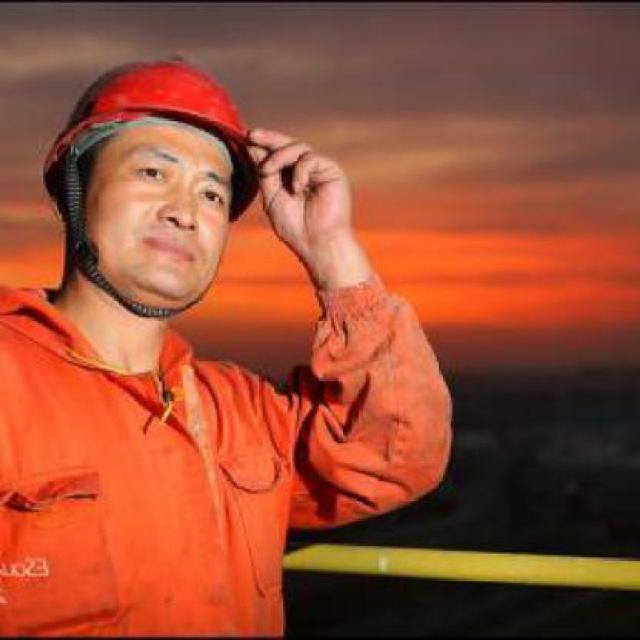safetyhelmet: (32, 58, 260, 228)
